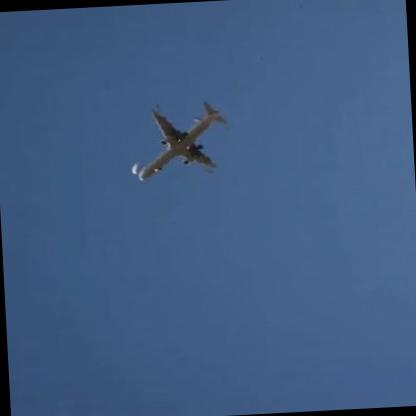plane: (127, 96, 235, 182)
